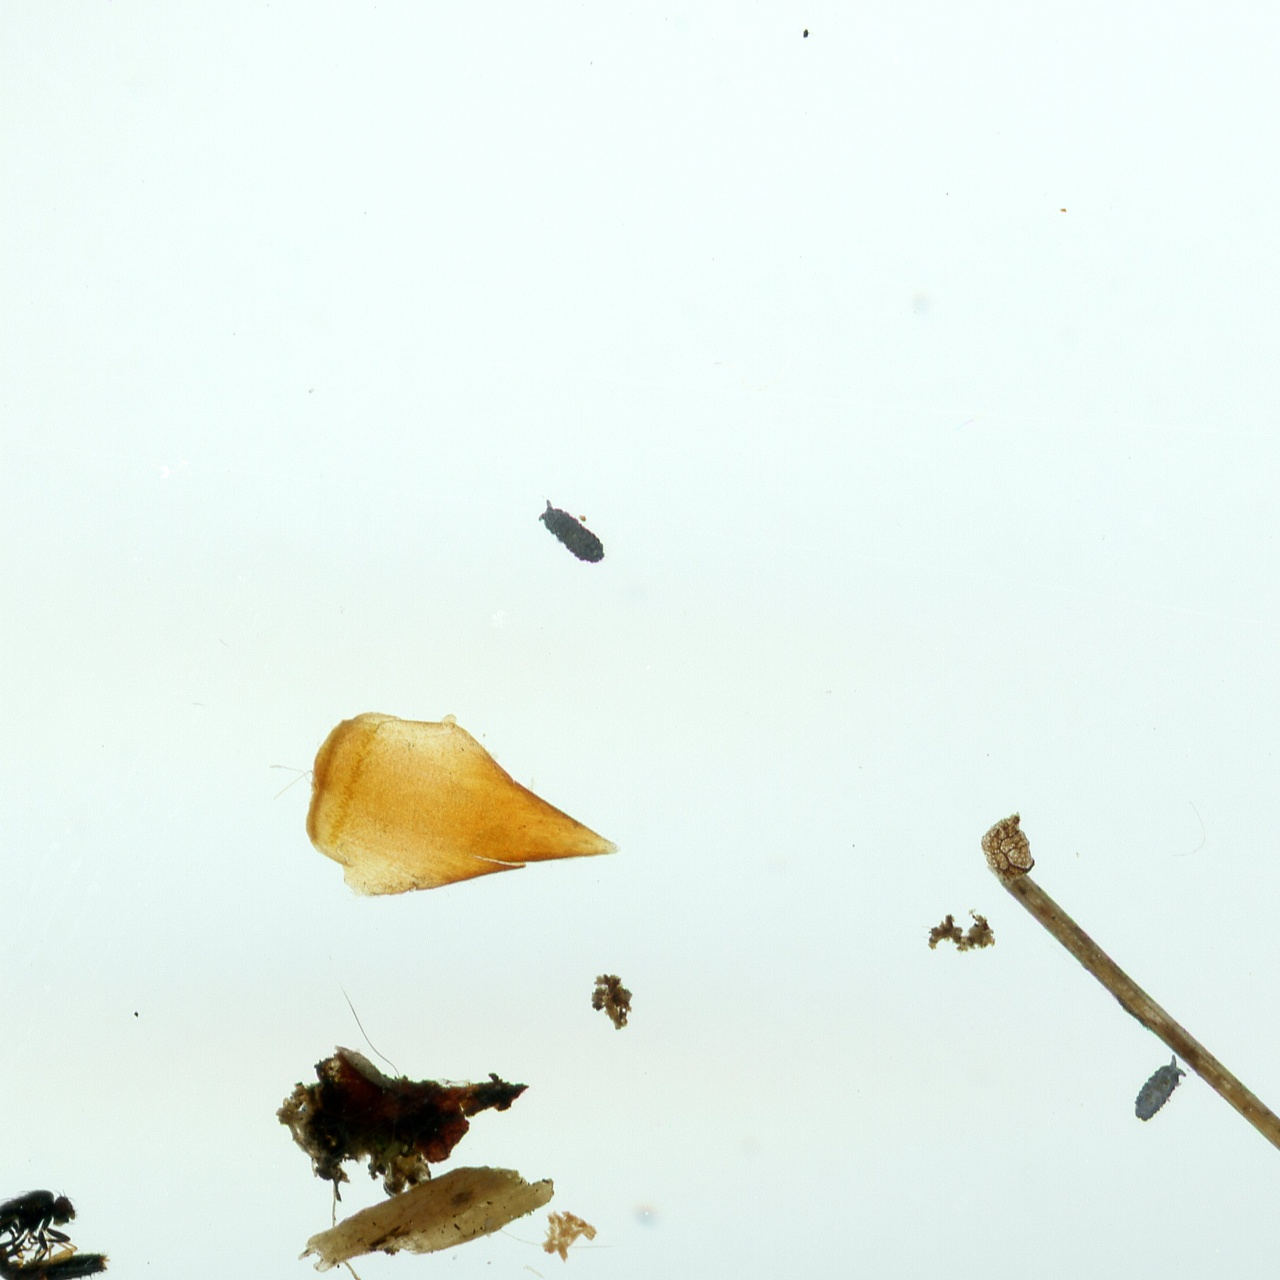arthropod: (0, 1190, 79, 1265), (536, 497, 606, 566), (0, 1243, 112, 1280), (1134, 1053, 1188, 1121)
